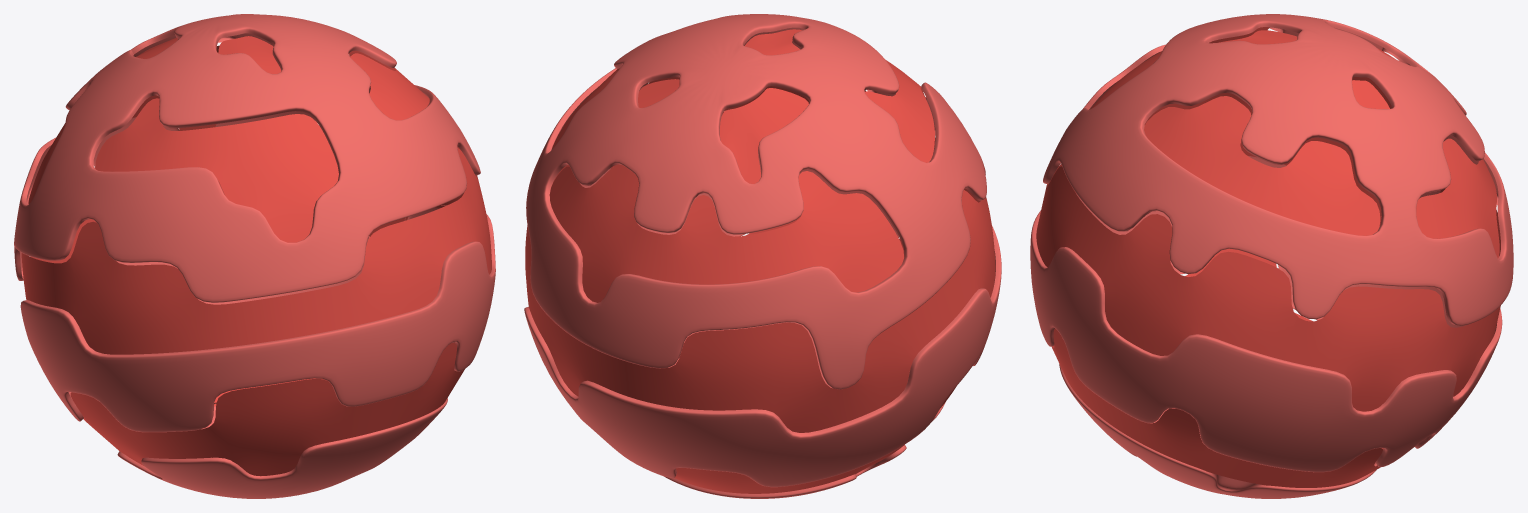
File: planet2.fbx
3 views of the same model, side by side, from view 1: azimuth 30°, elevation 25°; view 2: azimuth 150°, elevation 25°; view 3: azimuth 270°, elevation 25° (orthographic).
Visible parts, largest first — view 1: Sphere.005, Sphere.006; view 2: Sphere.005, Sphere.006; view 3: Sphere.005, Sphere.006.
Part boxes in pixels (<box>): Sphere.005: <box>14,14,495,498</box>; Sphere.006: <box>21,36,491,476</box>; Sphere.005: <box>524,14,1001,498</box>; Sphere.006: <box>525,29,995,493</box>; Sphere.005: <box>1030,14,1513,498</box>; Sphere.006: <box>1036,27,1500,487</box>.
Bounding box in the file's own units: 311 × 311 × 311.
